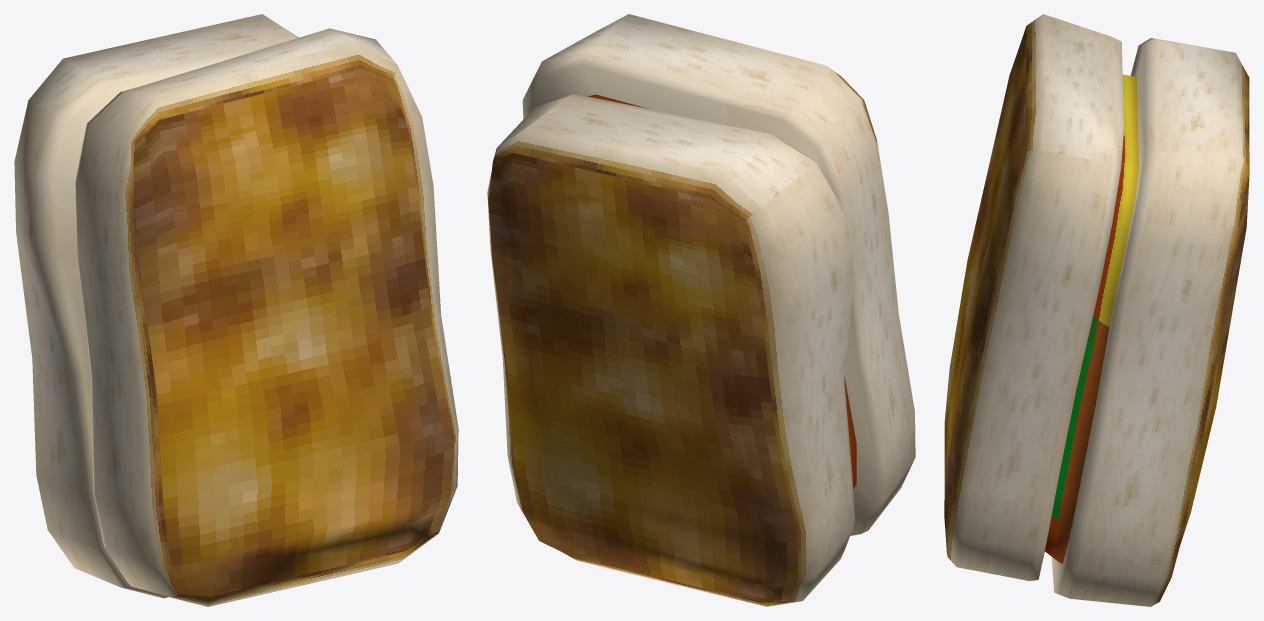
Rendered from H_Focaccia_Sandwich.fbx.
The picture shows the model from 3 angles, left to right: view 1: azimuth 30°, elevation 25°; view 2: azimuth 150°, elevation 25°; view 3: azimuth 270°, elevation 25°; orthographic projection. The views are drawn at different scales.
Parts seen in each view (by area): view 1: Lasagna; view 2: Lasagna; view 3: Lasagna.
Boxes of the visible parts, x1,y1,x2,y2 form: Lasagna: [14, 14, 458, 606]; Lasagna: [487, 14, 915, 606]; Lasagna: [944, 14, 1249, 606].
Size of the model in its own units: 15.57 by 21.89 by 12.
